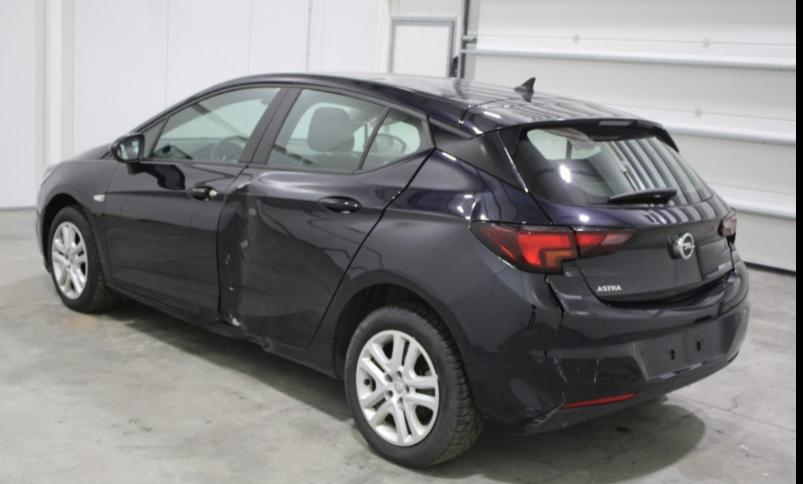Back-bumper: (458, 244, 750, 436)
Back-door: (217, 85, 432, 351)
Back-wheel: (346, 303, 483, 470)
Back-window: (267, 91, 420, 167)
Back-windshield: (497, 123, 712, 211)
Fender: (36, 145, 116, 285)
Front-door: (106, 84, 292, 322)
Front-wheel: (48, 208, 121, 310)
Front-window: (144, 89, 278, 162)
Mirror: (113, 138, 143, 161)
Quarter-panel: (300, 150, 590, 377)
Rocker-panel: (105, 280, 303, 363)
Roof: (217, 75, 618, 133)
Tail-light: (471, 222, 579, 273), (574, 227, 631, 259), (723, 211, 737, 244)
Trunk: (531, 198, 735, 304), (461, 98, 663, 137)
